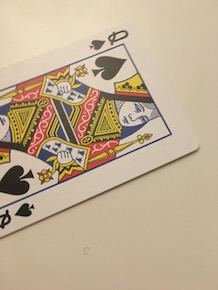QueenOfSpades: (1, 18, 202, 242)
